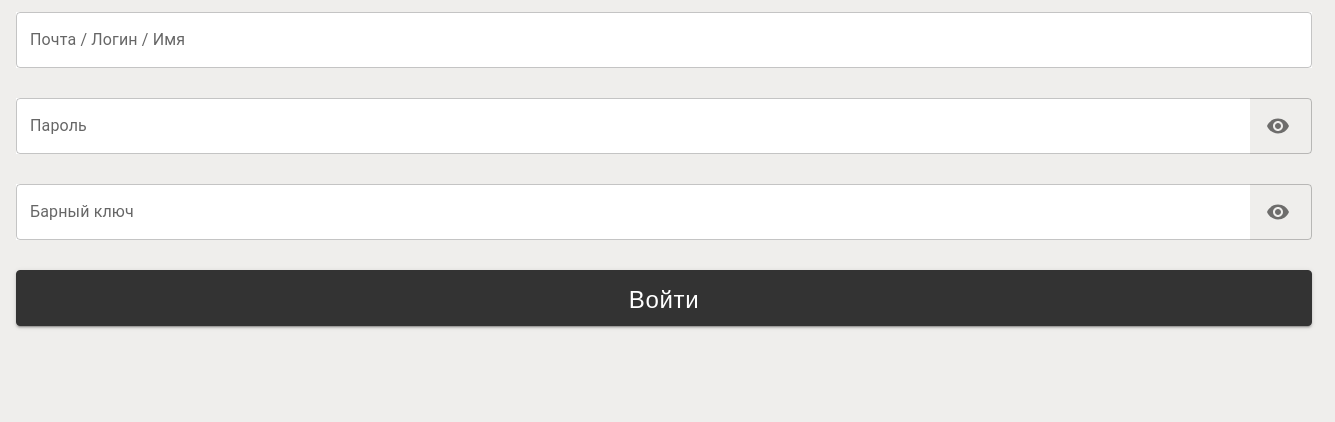
Test: BarmanAuthForm › показывает ошибки при пустой форме
Click the button "Войти" at (664, 298), box left=16, top=270, right=1312, bottom=326
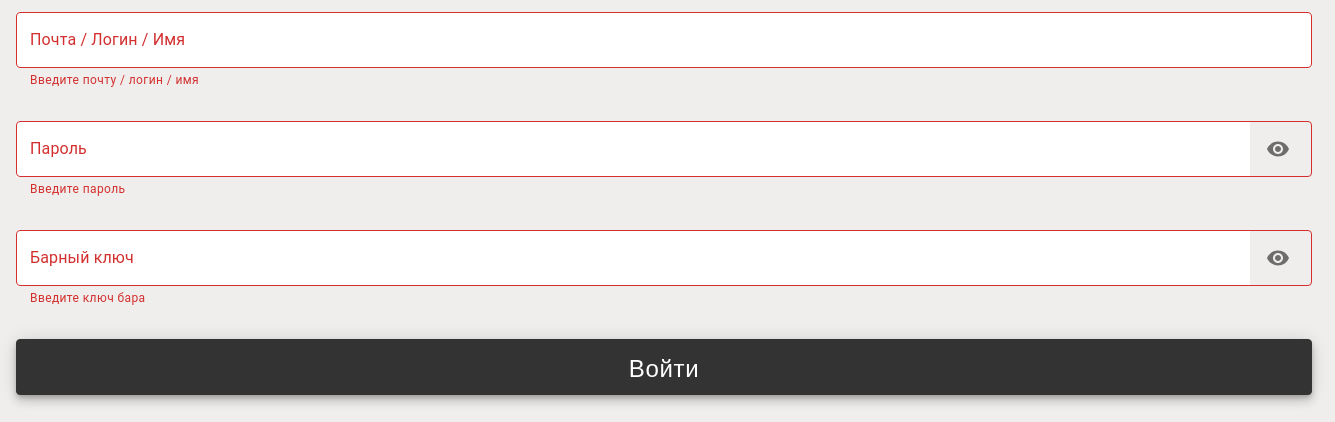
Result: the text "Введите почту / логин / имя" is shown at left=30, top=73, right=199, bottom=87
Result: the text "Введите пароль" is shown at left=30, top=182, right=126, bottom=196
Result: the text "Введите ключ бара" is shown at left=30, top=291, right=146, bottom=305
